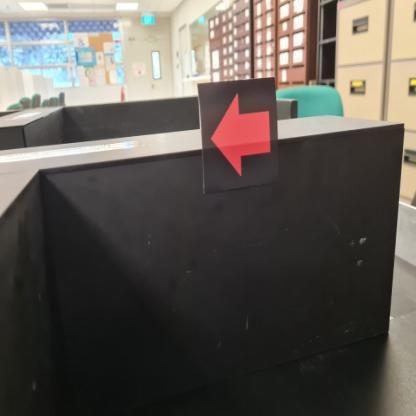left: (198, 77, 281, 193)
